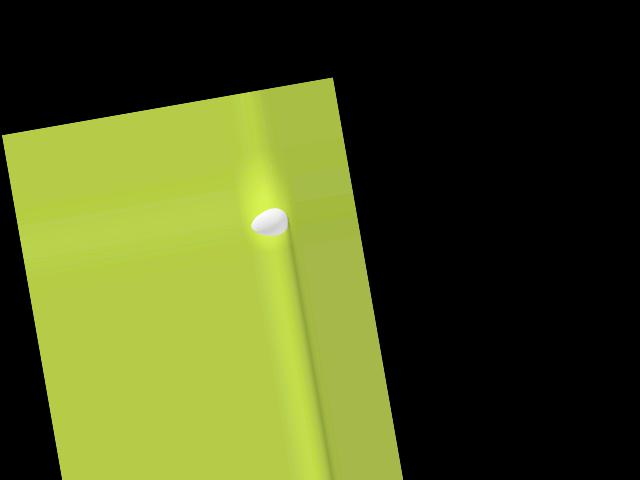egg: (248, 206, 290, 239)
